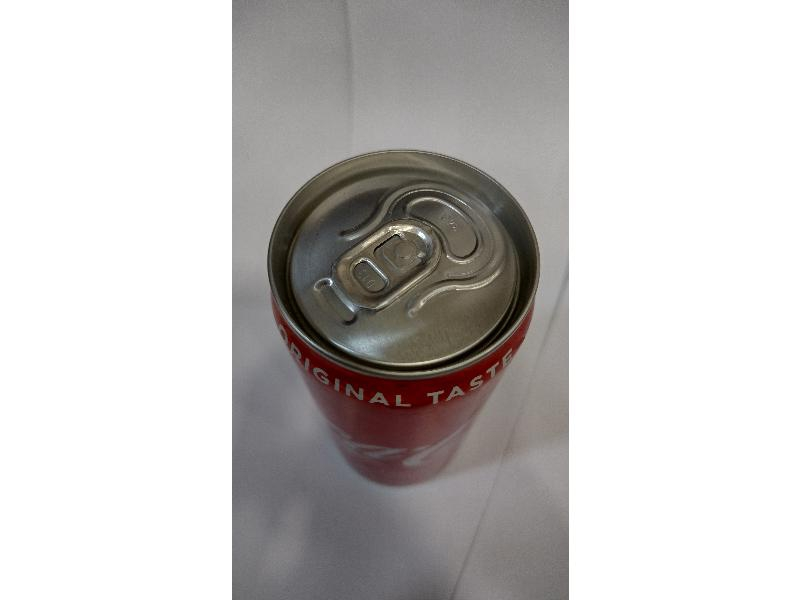can: (261, 149, 542, 491)
